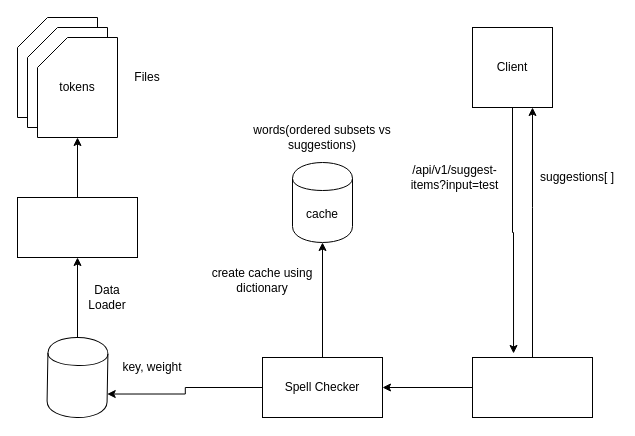
The diagram is 635 pixels wide and 436 high, and some of its shapes have lost their labels. The box of each missing label's shape, as (x1, y1, x2, y2) in pixels:
Dictionary: (46, 336, 108, 418)
Normaliser: (16, 196, 138, 258)
Spell Cheker Service: (472, 356, 592, 418)
